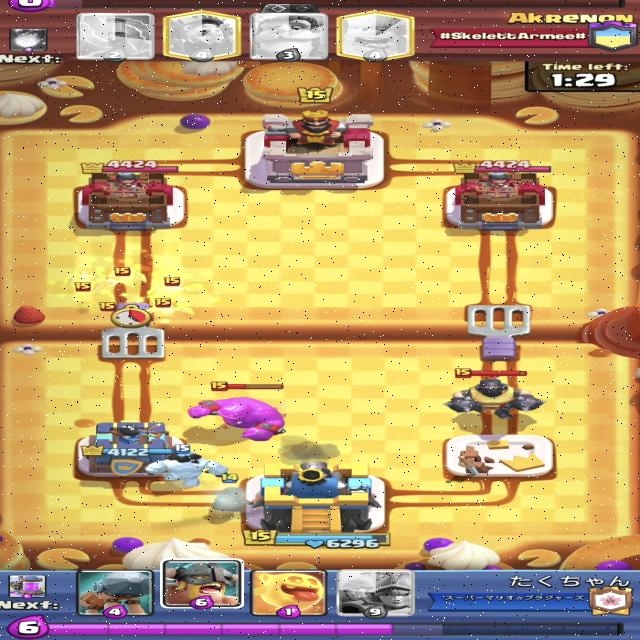Enemy-Bat: (139, 277, 210, 299), (138, 298, 199, 316), (62, 270, 105, 295), (105, 266, 146, 287)
Enemy-ElixirGolem: (187, 382, 287, 442)
Enemy-MegaKnight: (442, 367, 543, 421)
Player-Bandit: (206, 472, 256, 512)
Player-IceGolem: (142, 444, 230, 489)
